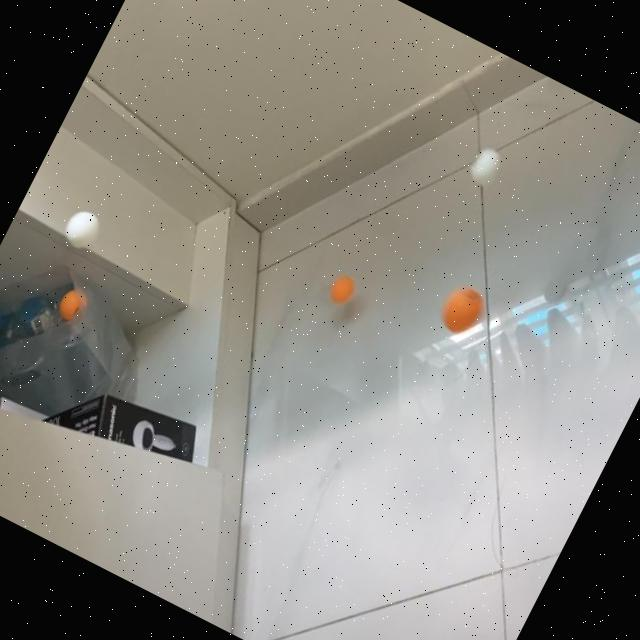ping-pong-ball: (432, 279, 488, 340), (462, 142, 506, 192), (60, 205, 105, 252), (52, 284, 90, 325), (326, 274, 356, 306)
